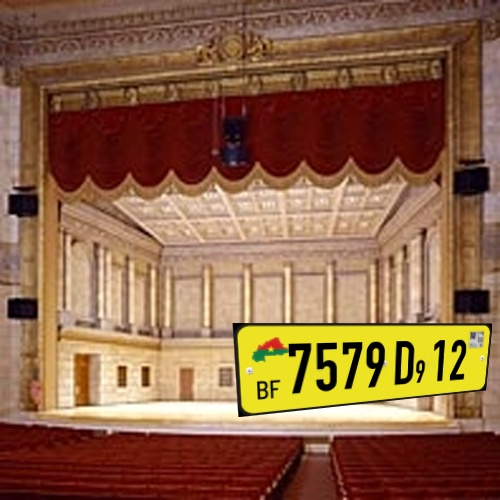plate: (226, 312, 497, 419)
